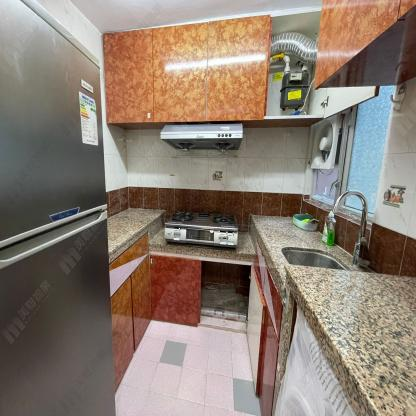Cupboard: (104, 13, 271, 123), (111, 234, 200, 389)
Exhaust Hood: (159, 122, 241, 152)
Faucet: (324, 186, 373, 269)
Sink: (285, 247, 351, 271)
Stove: (163, 211, 242, 249)
